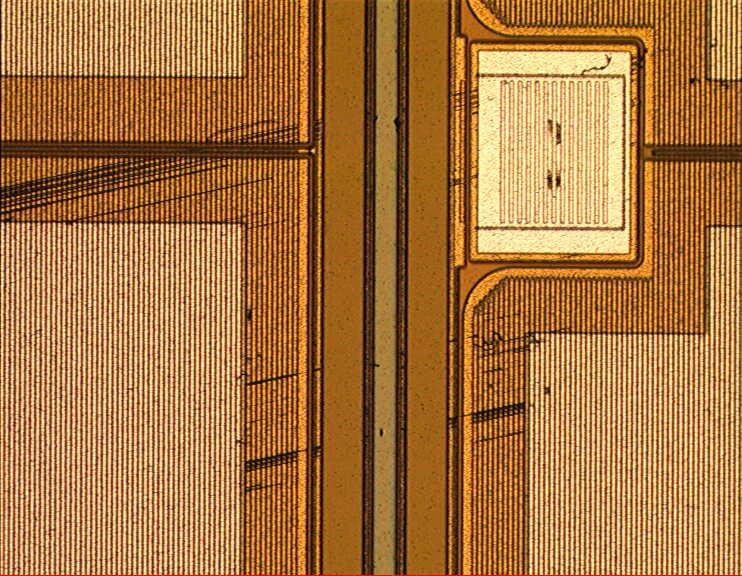SCRATCH: (1, 40, 735, 507)
